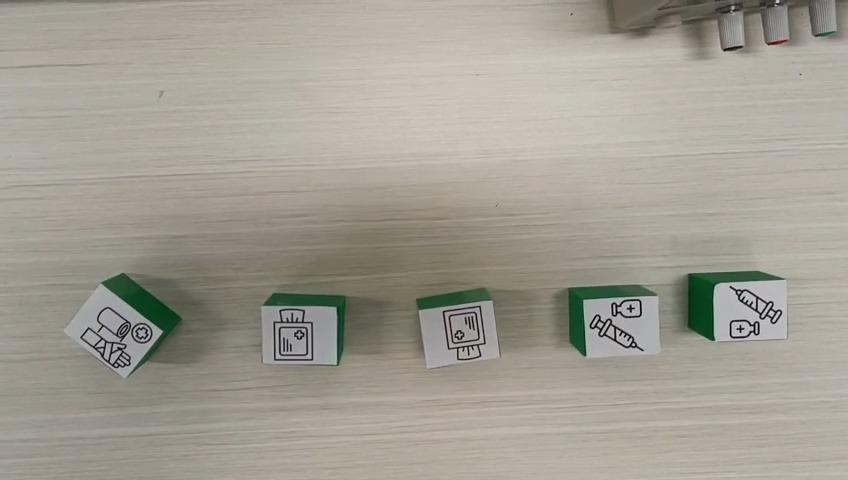Bandages: (60, 271, 183, 378)
Gauze: (416, 286, 502, 370), (261, 291, 347, 366)
antiseptic cream: (685, 270, 788, 341), (567, 283, 662, 358)
